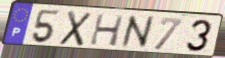3: (184, 18, 214, 54)
5: (30, 8, 61, 44)
7: (155, 17, 184, 52)
H: (88, 13, 126, 48)
N: (120, 14, 156, 50)
X: (58, 10, 94, 48)
